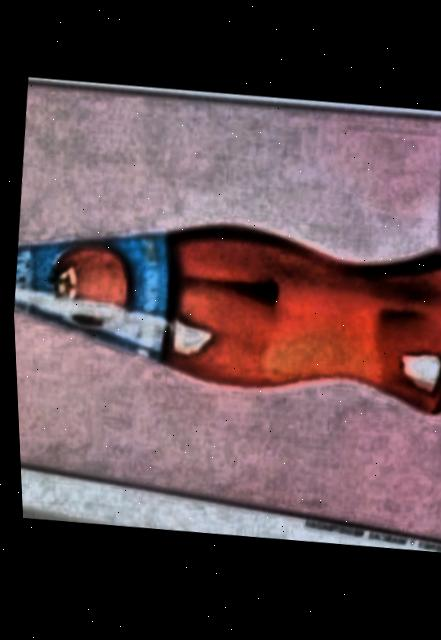La Botella: (11, 81, 441, 547)
